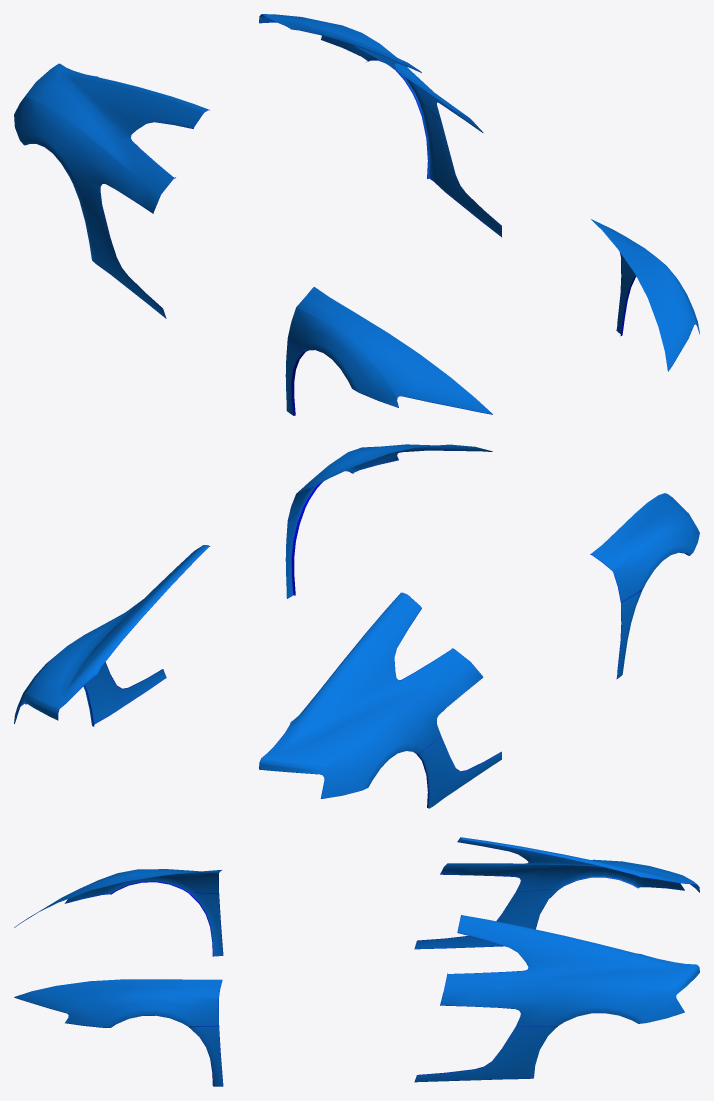
Rendered from AudiR8_Fenders01_Duco.fbx.
The picture shows the model from 3 angles, top to bottom: view 1: azimuth 30°, elevation 25°; view 2: azimuth 150°, elevation 25°; view 3: azimuth 270°, elevation 25°; orthographic projection. The views are drawn at different scales.
Parts seen in each view (by area): view 1: AudiR8_Fenders01_Duco; view 2: AudiR8_Fenders01_Duco; view 3: AudiR8_Fenders01_Duco.
Boxes of the visible parts, left/top/right/bottom form: AudiR8_Fenders01_Duco: left=14, top=14, right=699, bottom=415; AudiR8_Fenders01_Duco: left=14, top=444, right=699, bottom=808; AudiR8_Fenders01_Duco: left=14, top=837, right=699, bottom=1086.
Size of the model in its own units: 192 by 94.32 by 405.
